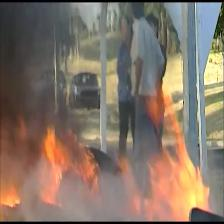fire: (0, 113, 214, 219)
smoke: (0, 4, 125, 127)
